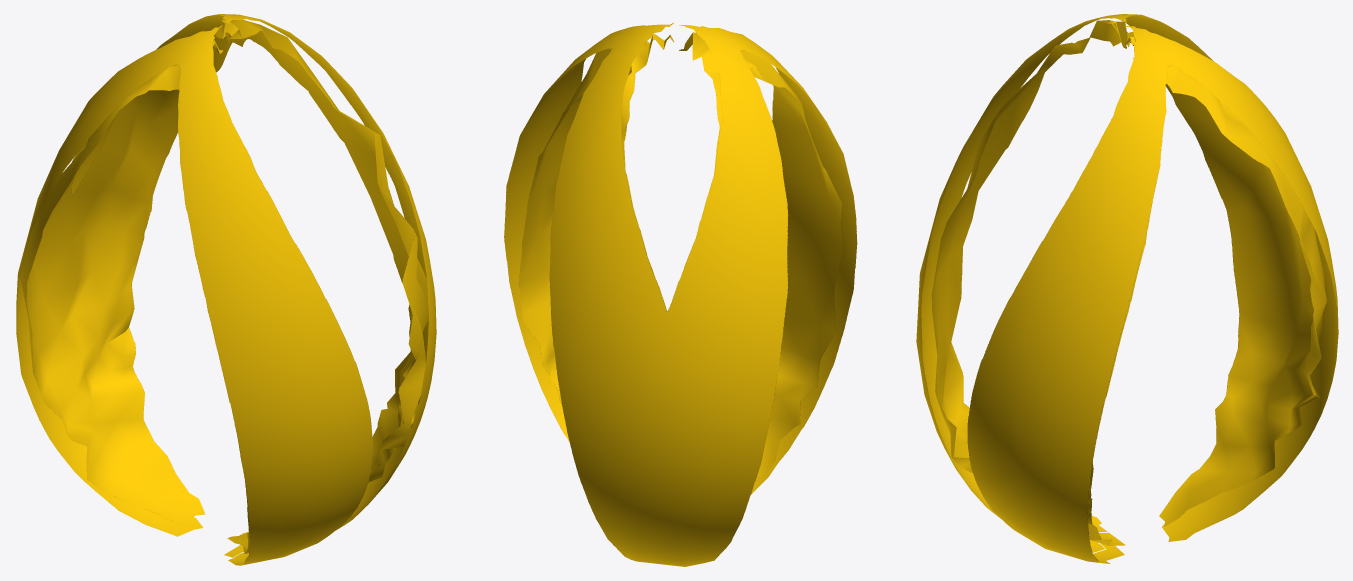
The model's file is mcdonalds_easter_demo_v4.fbx.
3 views of the same model, side by side, from view 1: azimuth 30°, elevation 25°; view 2: azimuth 150°, elevation 25°; view 3: azimuth 270°, elevation 25° (orthographic).
Visible parts, largest first — view 1: Sphere; view 2: Sphere; view 3: Sphere.
Boxes of the visible parts, box(x1,y1,x2,y2) form: Sphere: box(16, 14, 436, 565); Sphere: box(504, 22, 857, 566); Sphere: box(916, 14, 1338, 563).
Size of the model in its own units: 138 by 188 by 138.
1 material, 1 textured.
